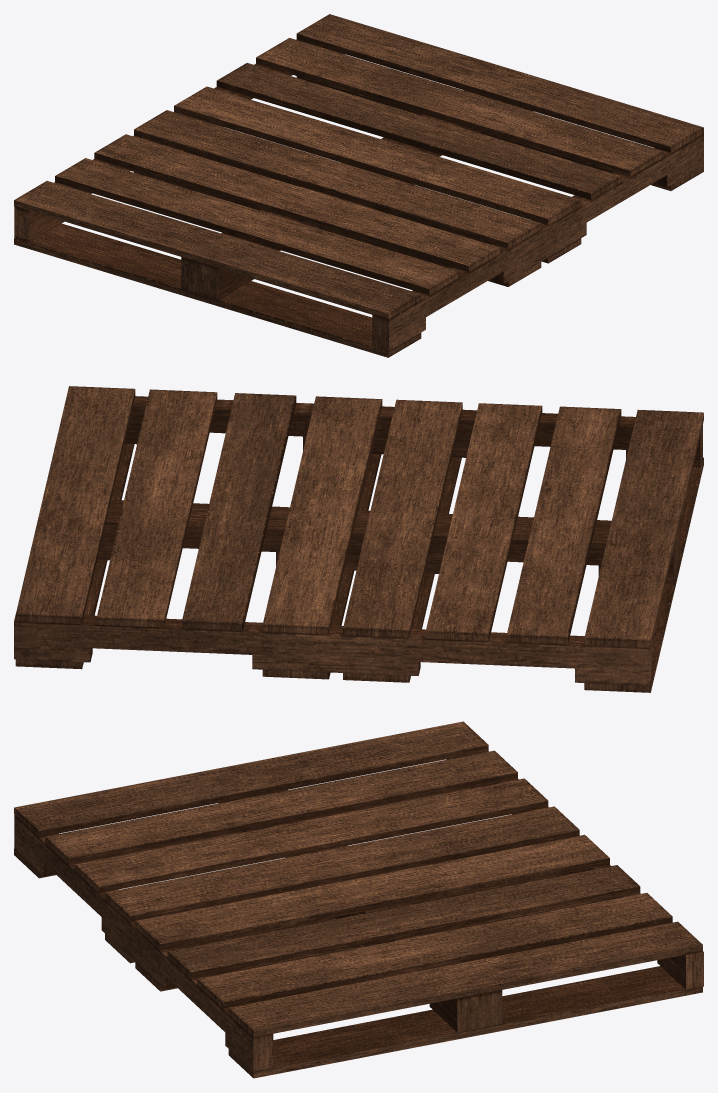
File: wood2.glb
3 views of the same model, one above another, from view 1: azimuth 30°, elevation 25°; view 2: azimuth 150°, elevation 25°; view 3: azimuth 270°, elevation 25° (orthographic). The views are drawn at different scales.
Visible parts, largest first — view 1: pallet1_Pallet_shader_0; view 2: pallet1_Pallet_shader_0; view 3: pallet1_Pallet_shader_0.
Part boxes in pixels (x1,y1,x2,y2): pallet1_Pallet_shader_0: [14, 14, 703, 357]; pallet1_Pallet_shader_0: [14, 386, 703, 692]; pallet1_Pallet_shader_0: [14, 721, 703, 1078].
Size of the model in its own units: 1.9 by 0.1359 by 1.79.
1 material, 1 textured.
